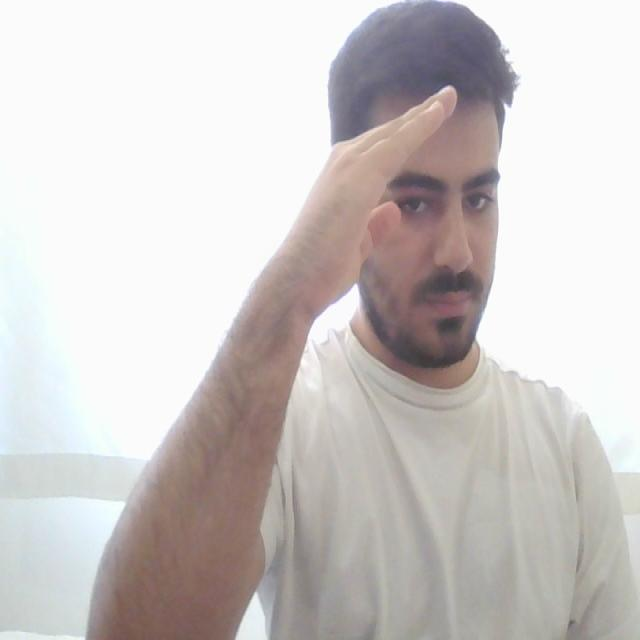Merhaba: (296, 67, 464, 318)
